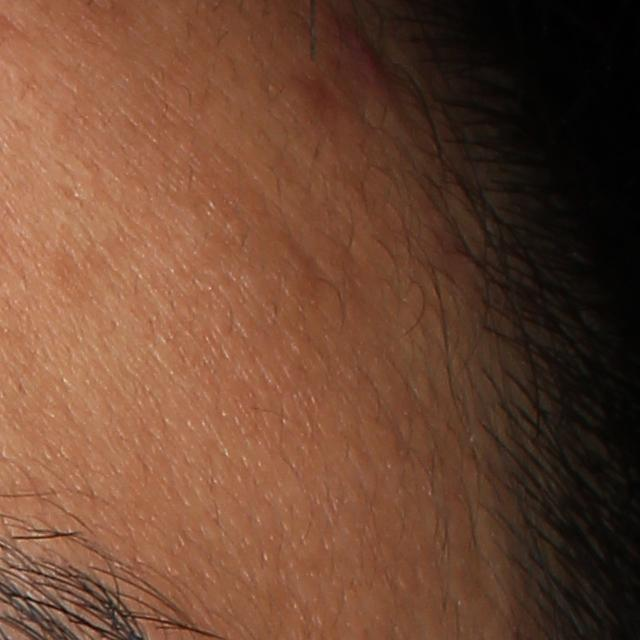papule: (345, 29, 391, 88)
